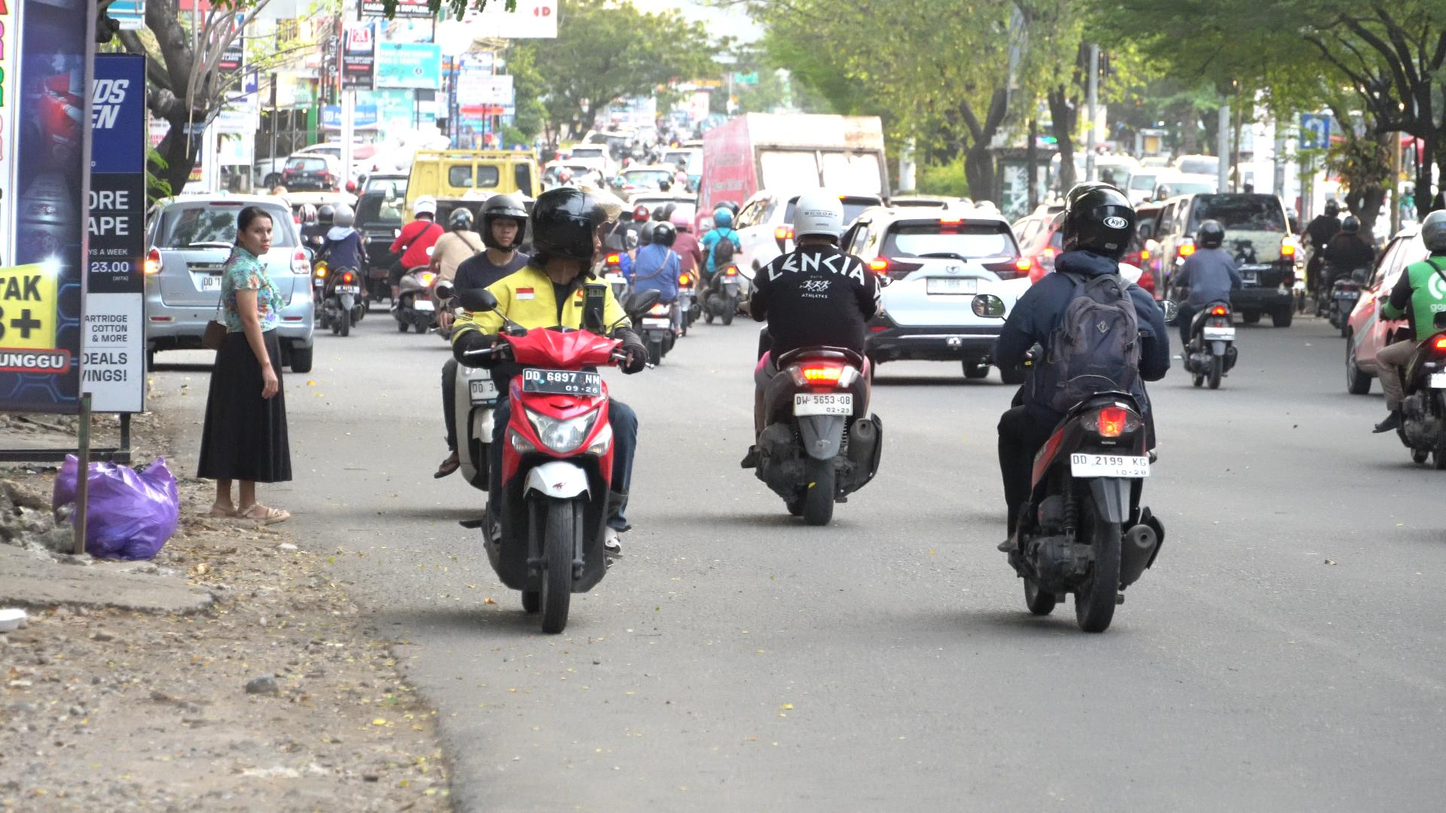number-plate: (523, 365, 601, 399)
